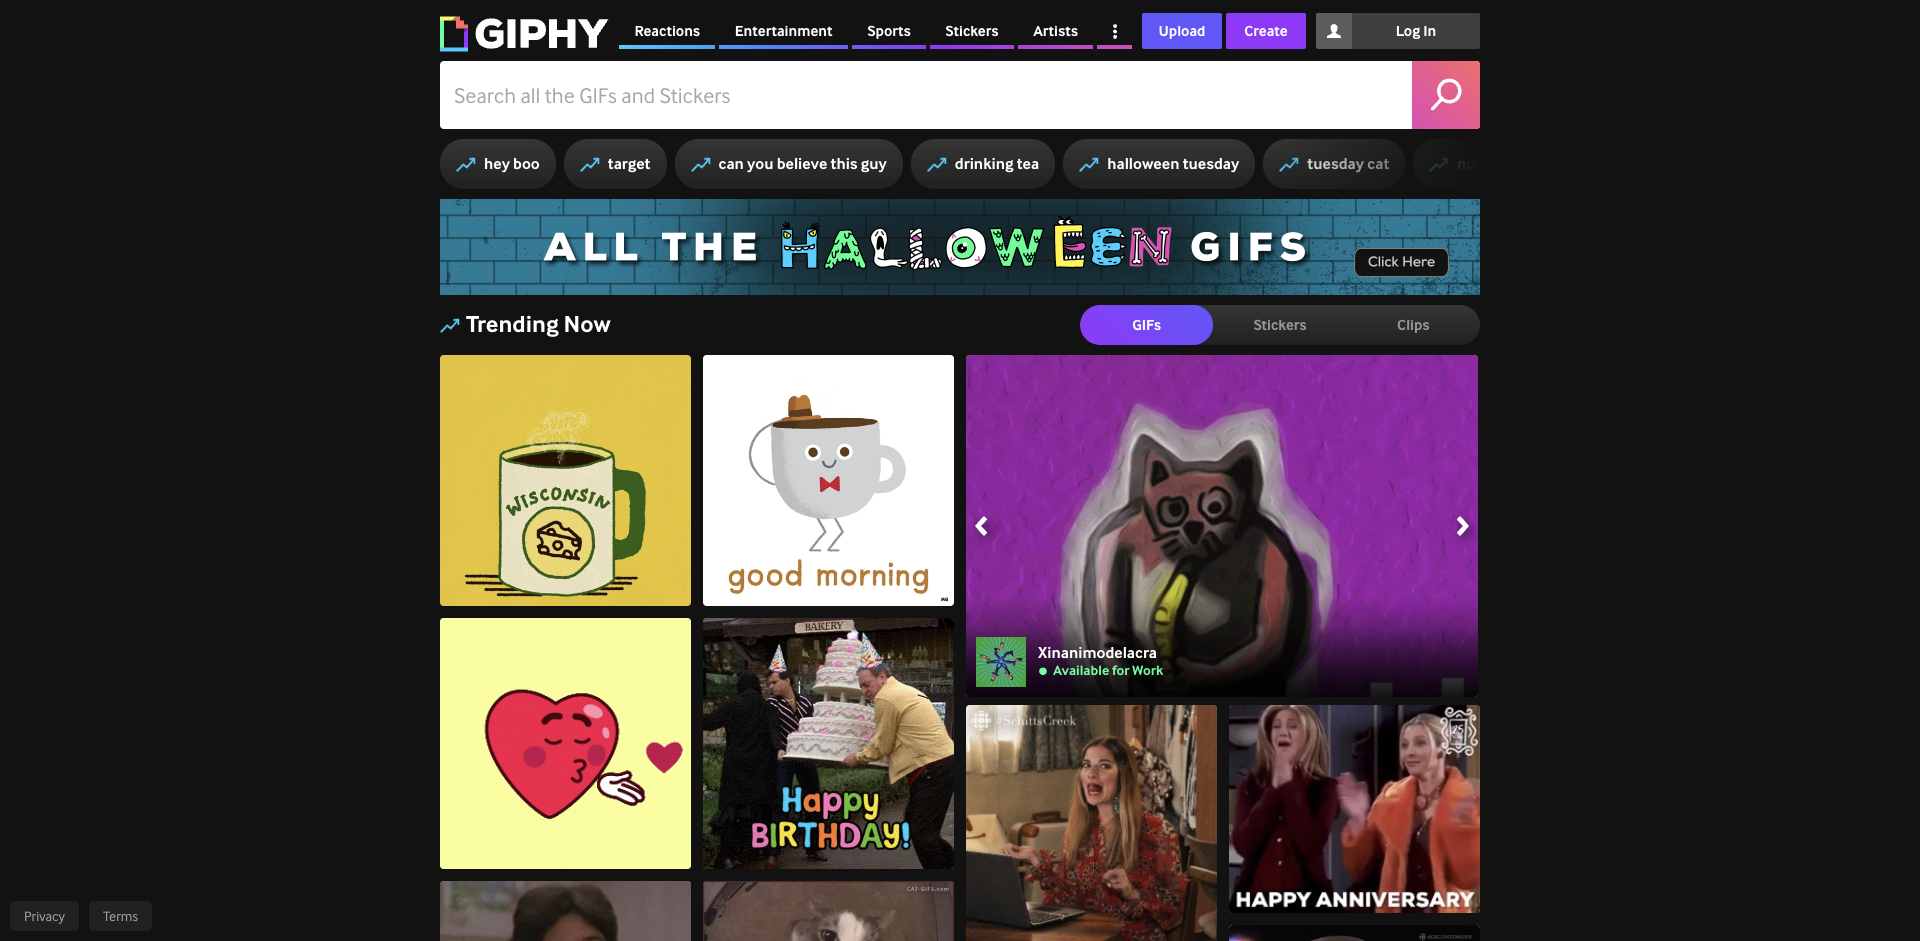button: (1080, 305, 1213, 346), (1213, 305, 1347, 346), (1347, 305, 1480, 346)
input: (440, 82, 1412, 108)
link: (966, 355, 1478, 697), (440, 355, 691, 607), (703, 355, 954, 607), (440, 618, 691, 869), (703, 618, 954, 869), (966, 705, 1217, 941), (1229, 705, 1480, 913), (440, 881, 691, 941), (703, 881, 954, 941), (675, 138, 902, 189), (1063, 138, 1255, 189), (1513, 138, 1680, 189), (1687, 138, 1837, 189), (911, 138, 1056, 189), (1264, 138, 1406, 189), (440, 138, 556, 189), (563, 138, 666, 189), (1413, 138, 1505, 189), (1352, 13, 1480, 49), (720, 13, 847, 49), (1229, 925, 1480, 941), (1845, 138, 1920, 189), (620, 13, 715, 49), (931, 13, 1014, 49), (1226, 13, 1307, 49), (1142, 13, 1222, 49), (1018, 13, 1093, 49), (852, 13, 926, 49), (10, 901, 78, 931), (89, 901, 152, 931)
